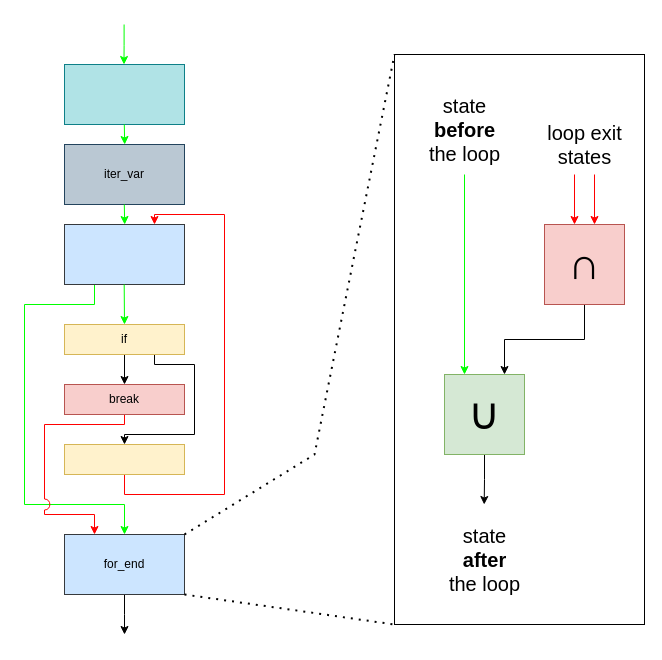
Some shapes in this 662 by 660 pixel diagram are drawn without their labels. The centre of each missing label's shape, as x and y in pixels:
for: [124,254]
join_if: [124,459]
range: [124,94]
